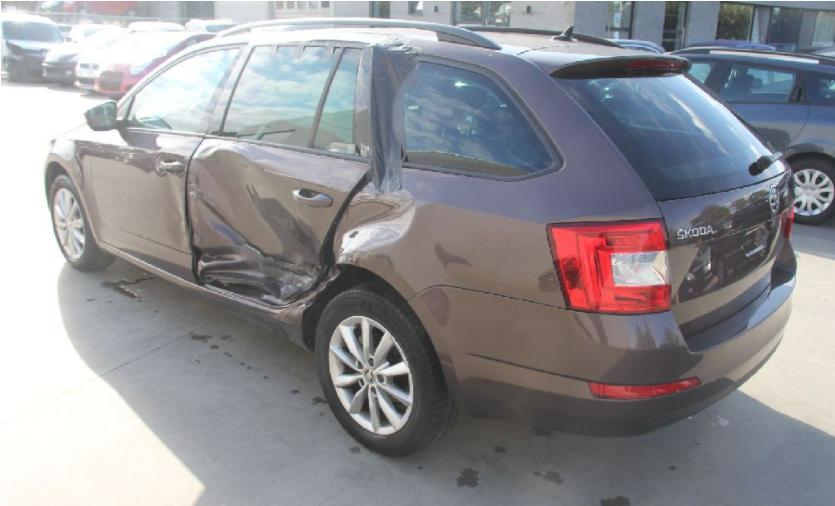Back-bumper: (407, 278, 796, 438)
Back-door: (187, 37, 378, 308)
Back-wheel: (315, 289, 456, 457)
Back-window: (391, 58, 550, 176), (219, 46, 363, 157)
Back-windshield: (552, 66, 791, 201)
Fender: (43, 122, 98, 243)
Front-door: (67, 43, 247, 285)
Front-wheel: (50, 174, 116, 272)
Front-window: (116, 47, 241, 136)
Mirror: (85, 100, 125, 136)
Quarter-panel: (330, 166, 660, 306)
Rocker-panel: (99, 240, 312, 351)
Roof: (180, 16, 611, 56)
Tail-light: (545, 216, 673, 314)
Trunk: (659, 169, 797, 346), (524, 44, 692, 75)
